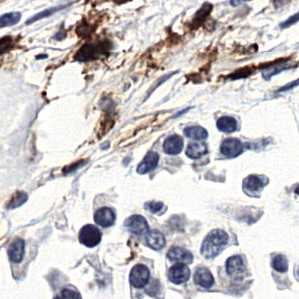Lymphocyte: (75, 40, 115, 61)
